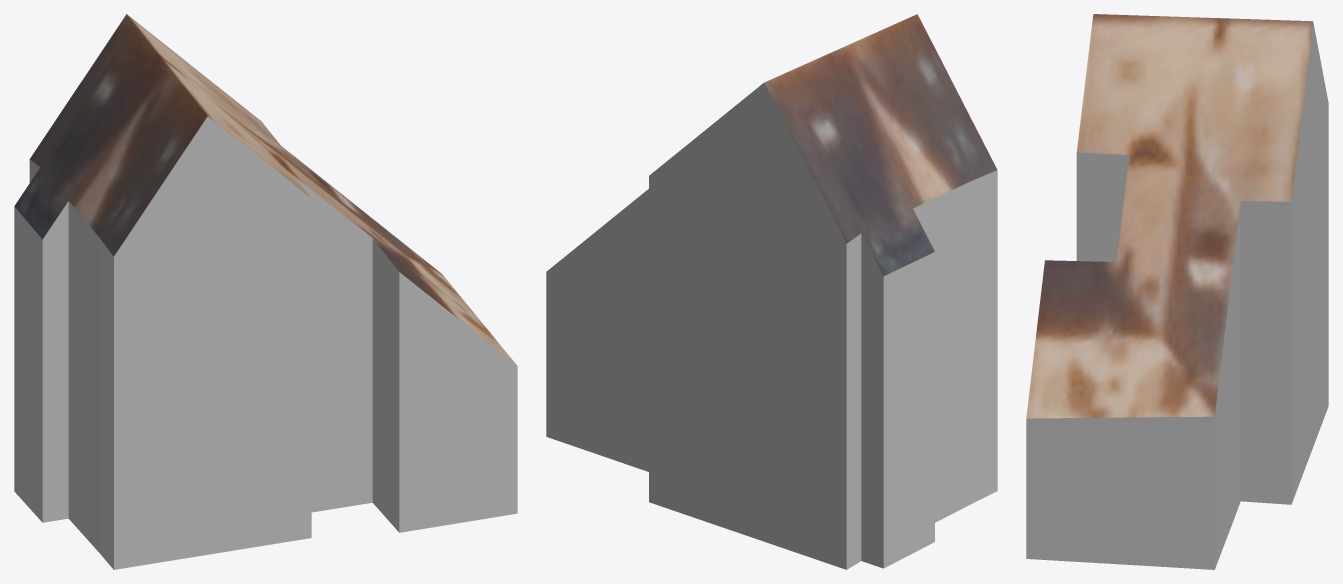
The model's file is DEBW_0010007TxbX.gltf.
3 views of the same model, side by side, from view 1: azimuth 30°, elevation 25°; view 2: azimuth 150°, elevation 25°; view 3: azimuth 270°, elevation 25° (orthographic). The views are drawn at different scales.
Visible parts, largest first — view 1: Z_UP; view 2: Z_UP; view 3: Z_UP.
Boxes of the visible parts, box(x1,y1,x2,y2) form: Z_UP: box(14, 14, 517, 569); Z_UP: box(546, 14, 997, 569); Z_UP: box(1026, 14, 1328, 569).
Size of the model in its own units: 20.62 by 22.66 by 14.57.
2 materials, 1 textured.
